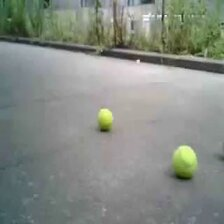tennis: (173, 146, 197, 178), (96, 109, 113, 128)
